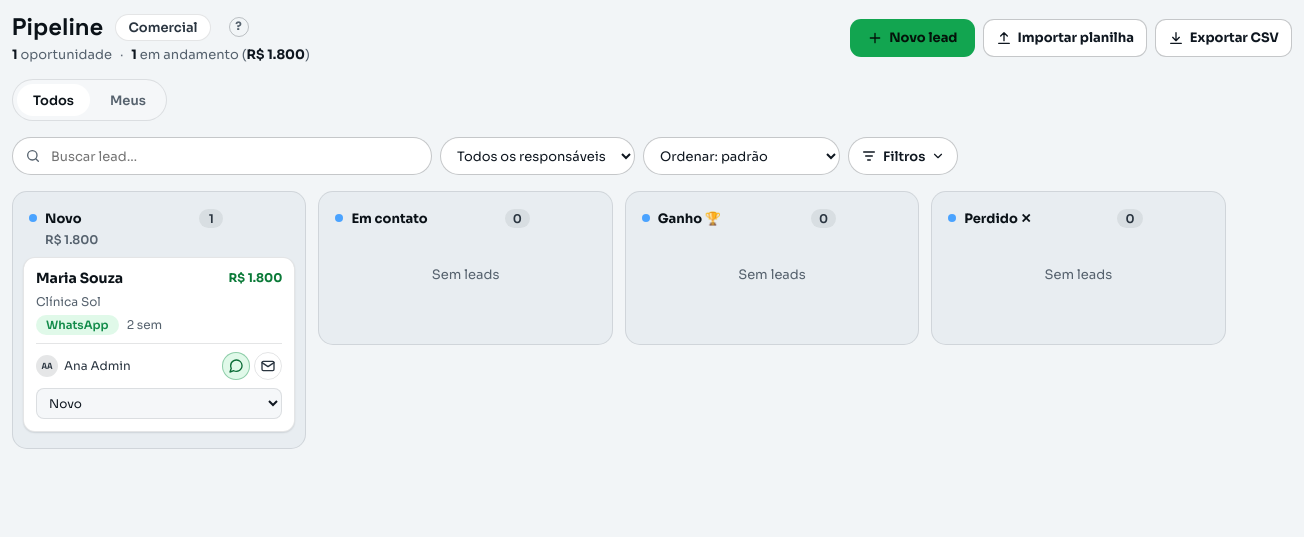
Scenario: filtros: progressive disclosure e chips removíveis › o período fica atrás de 'Filtros' (aria-expanded) e é rotulado 'Criados em'
Check: the text "Maria Souza" is shown, box [36,270,123,288]
Check: the button "Hoje" is not shown
Click the button "Filtros": (903, 156) [848,137,958,175]
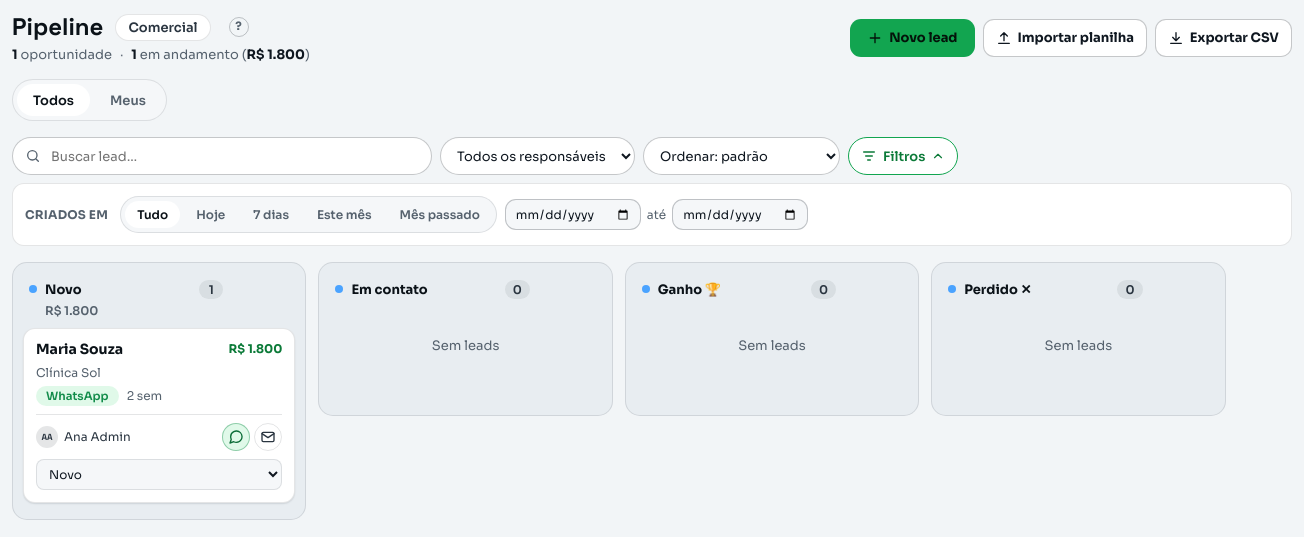
Check: the button "Filtros" is expanded, box [848,137,958,175]
Check: the button "Hoje" is shown, box [184,201,237,228]
Check: the text "Criados em" is shown, box [25,207,108,222]
